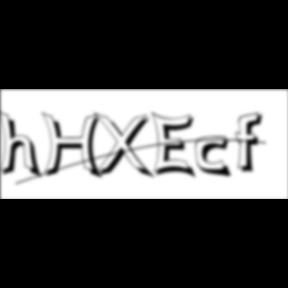E: (152, 110, 200, 182)
H: (41, 112, 107, 182)
X: (93, 112, 157, 182)
c: (196, 136, 236, 180)
f: (236, 111, 270, 175)
h: (0, 108, 46, 182)
